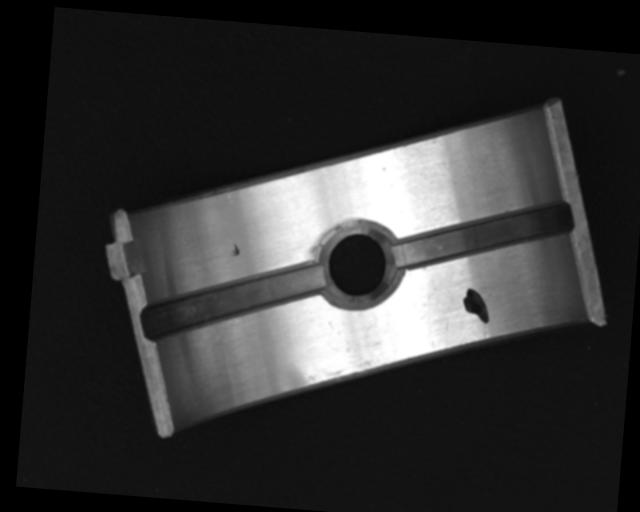blot: (460, 287, 492, 324)
bruise: (231, 242, 241, 257)
gap: (143, 248, 326, 351), (392, 187, 578, 279)
hole: (317, 217, 401, 308)
